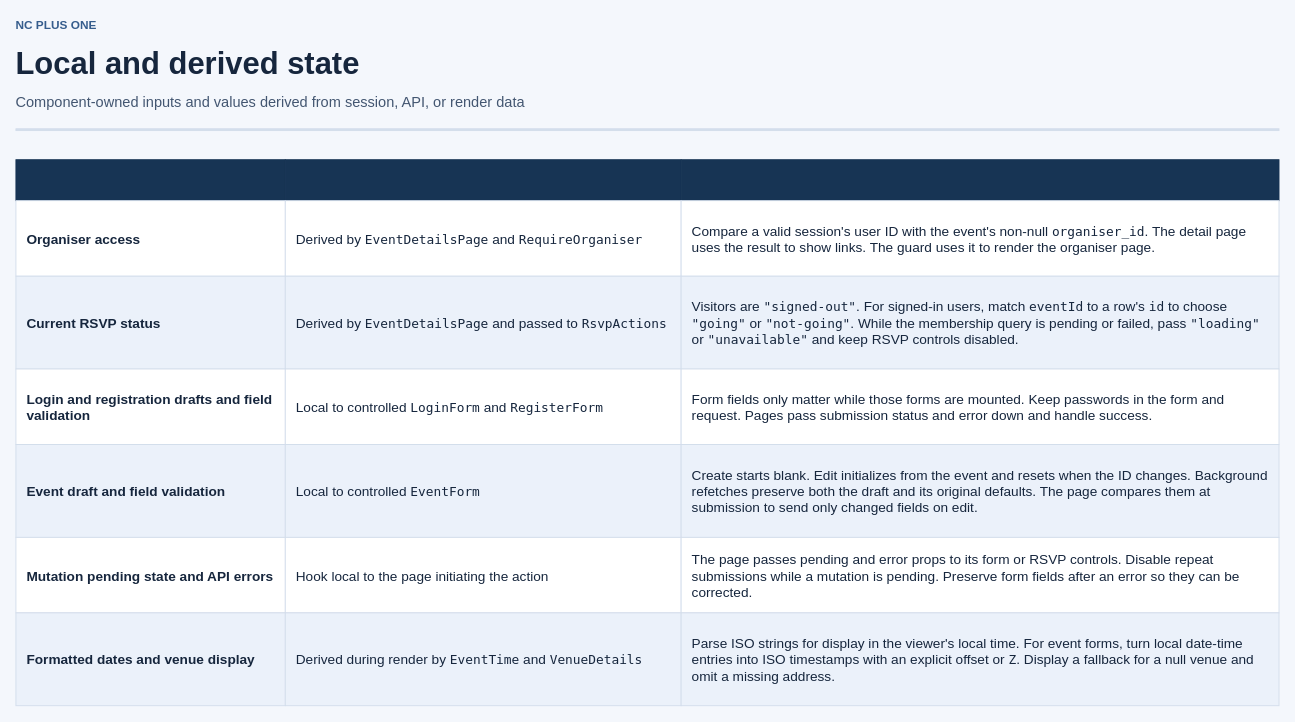
Some shapes in this 1295 by 722 pixel diagram are drawn without their labels. Here are the shapes that lost their labels. From the top down, the centre of each, then its label:
At pixel 150 180: "State".
At pixel 482 180: "Owner".
At pixel 979 180: "Reason and lifecycle".
